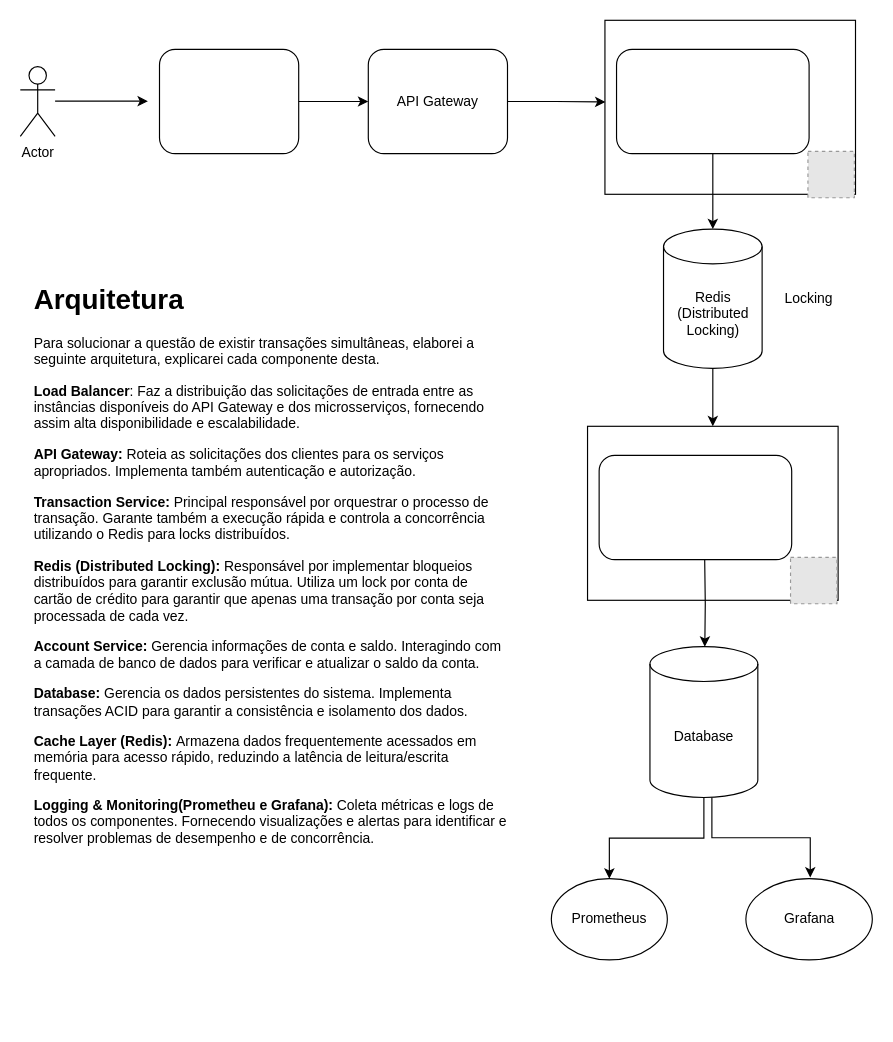
Image size: 893x1042. Some labels were removed from this diagram. Grey dashed boxes stand in for pictures. The centre of each missing label's shape, as x and y in pixels:
Account Service: [695,507]
Load Balancer AWS ELB: [228,101]
Transaction Service: [712,101]
